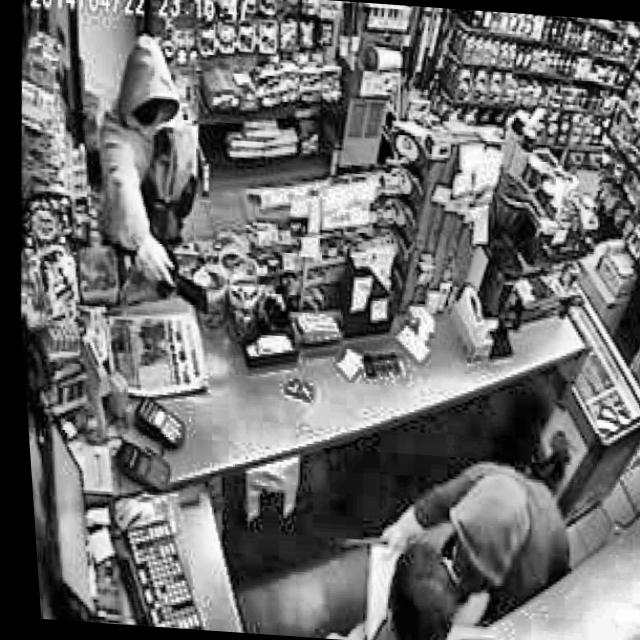robbery: (305, 447, 576, 640), (77, 31, 225, 296)
